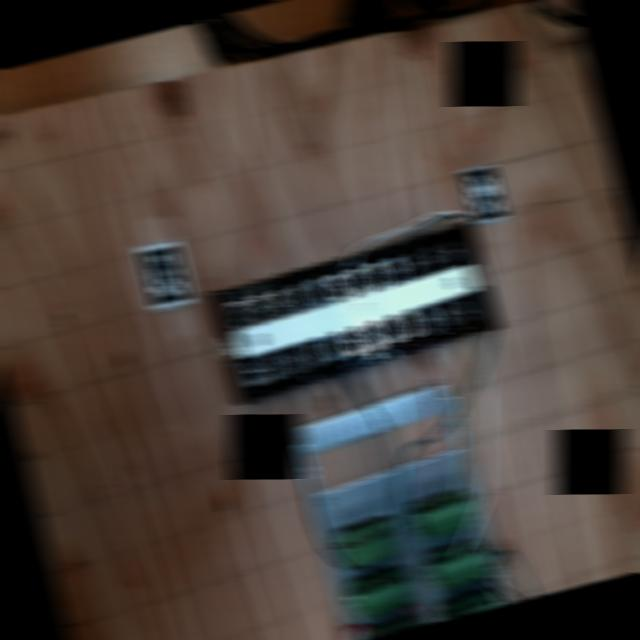Phillips_Block: (207, 220, 502, 403)
Terminal_2: (348, 566, 414, 620), (426, 538, 491, 591), (412, 487, 477, 539), (440, 588, 500, 624), (362, 615, 420, 640)
